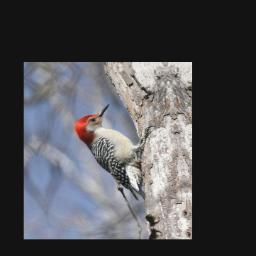Woodpecker: (67, 97, 172, 211)
